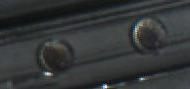joints: (128, 14, 173, 59), (38, 37, 72, 73)
twou: (52, 76, 188, 89)
